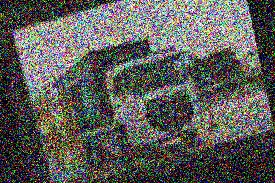truck: (50, 23, 213, 175)
